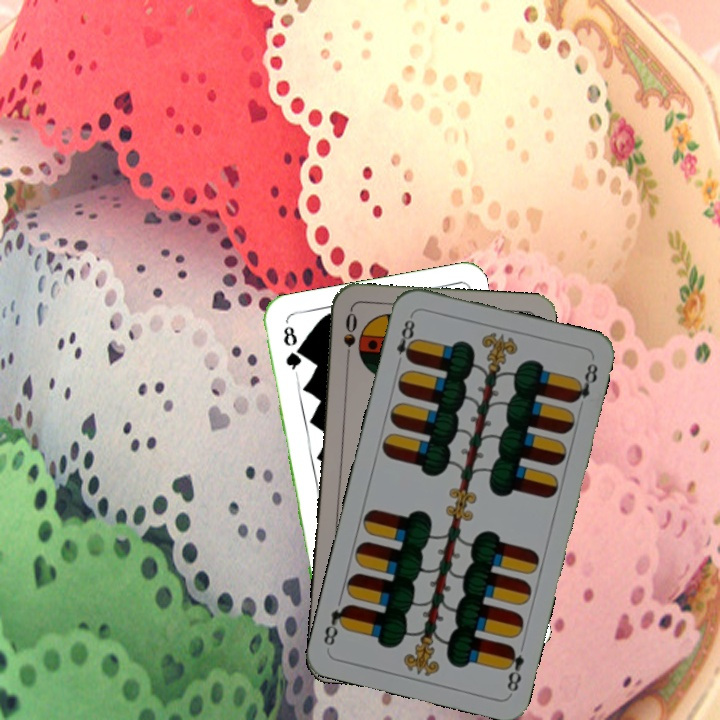E8: (392, 311, 419, 369), (500, 641, 527, 694)
G8: (279, 322, 305, 378)
SO: (340, 307, 360, 367)
